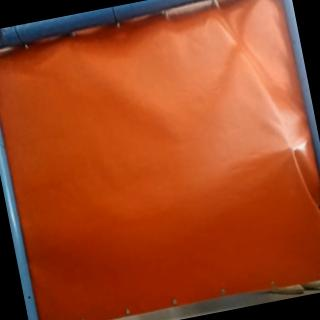Hit-hRxx: (286, 141, 304, 157)
